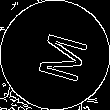M_W: (24, 26, 86, 84)
